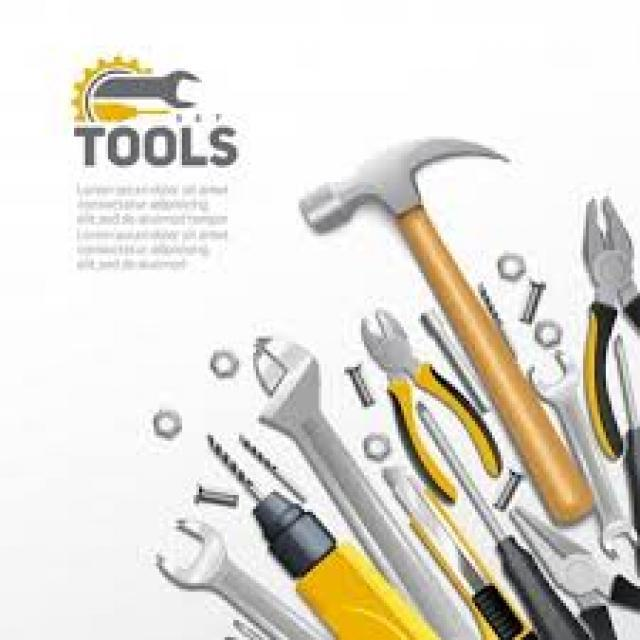drill: (195, 424, 424, 640)
hammer: (284, 113, 604, 530)
pliers: (347, 288, 512, 506), (560, 179, 640, 461), (501, 497, 640, 640)
wrench: (517, 331, 640, 558), (148, 512, 322, 640)
